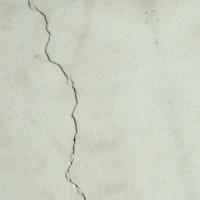crack: (24, 2, 107, 198)
